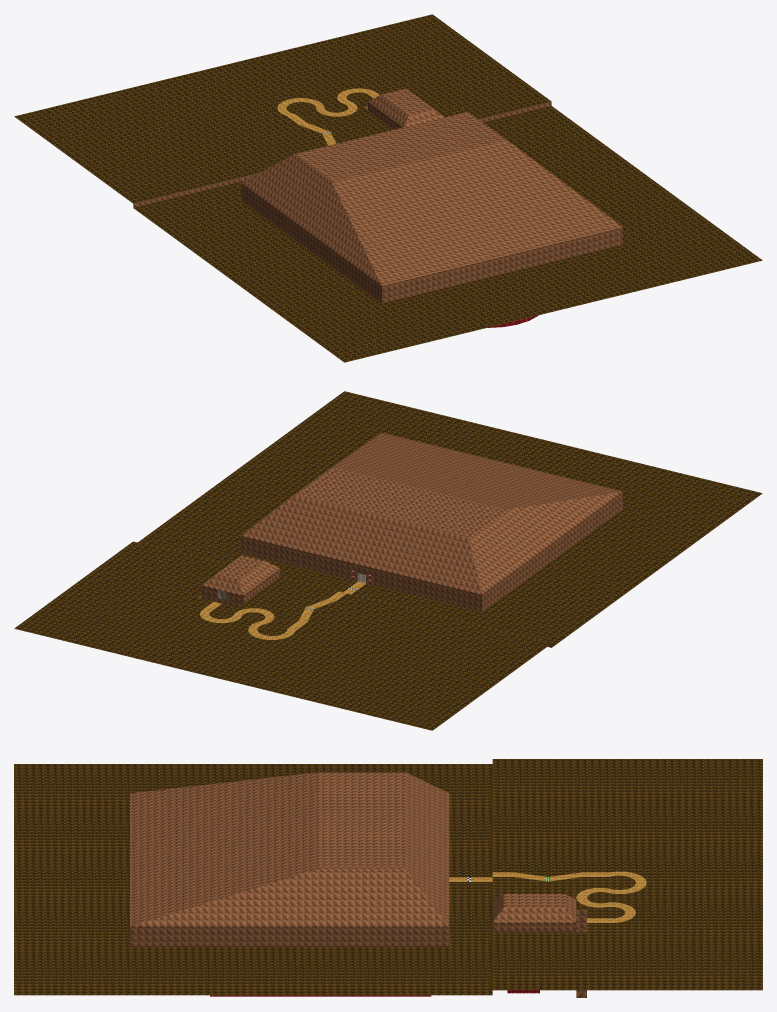
3 views of the same model, one above another, from view 1: azimuth 30°, elevation 25°; view 2: azimuth 150°, elevation 25°; view 3: azimuth 270°, elevation 25° (orthographic). The views are drawn at different scales.
Parts seen in each view (by area): view 1: course-SKP--mine_external_slowdownroad, course-SKP--mine_external_wall, course-SKP--mine_extern_road; view 2: course-SKP--mine_external_slowdownroad, course-SKP--mine_external_wall, course-SKP--mine_extern_road; view 3: course-SKP--mine_external_slowdownroad, course-SKP--mine_external_wall, course-SKP--mine_extern_road, course-SKP--mine_lava_wall.
Part boxes in pixels (x1=…): course-SKP--mine_external_slowdownroad: x1=14, y1=14, x2=762, y2=362; course-SKP--mine_external_wall: x1=133, y1=88, x2=622, y2=303; course-SKP--mine_extern_road: x1=277, y1=88, x2=379, y2=145; course-SKP--mine_external_slowdownroad: x1=14, y1=391, x2=762, y2=730; course-SKP--mine_external_wall: x1=197, y1=433, x2=622, y2=647; course-SKP--mine_extern_road: x1=200, y1=582, x2=365, y2=639; course-SKP--mine_external_slowdownroad: x1=14, y1=759, x2=762, y2=995; course-SKP--mine_external_wall: x1=130, y1=772, x2=586, y2=997; course-SKP--mine_extern_road: x1=449, y1=871, x2=646, y2=922; course-SKP--mine_lava_wall: x1=210, y1=990, x2=539, y2=996.
Size of the model in its own units: 151000 by 37000 by 206500.
Materials: 19 (19 with a texture image).
